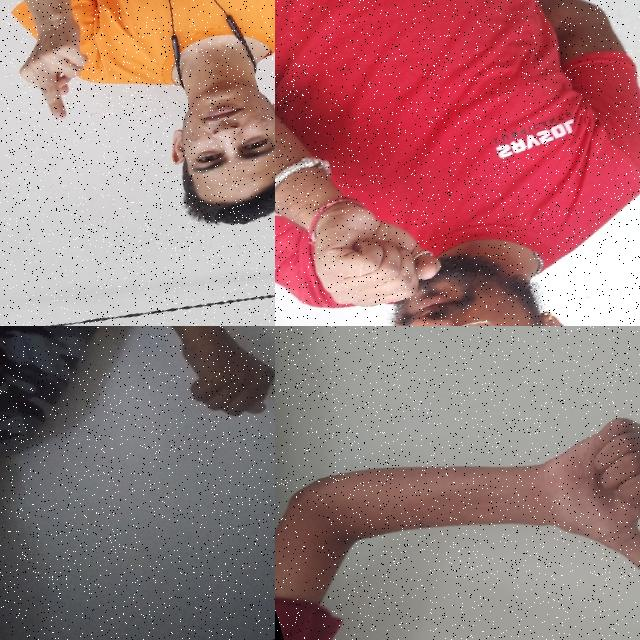Dulya: (145, 326, 275, 447)
Fist Mouth: (275, 149, 585, 326)
Middle Finger: (0, 0, 111, 134)
Thumbs Up: (516, 388, 640, 620)
